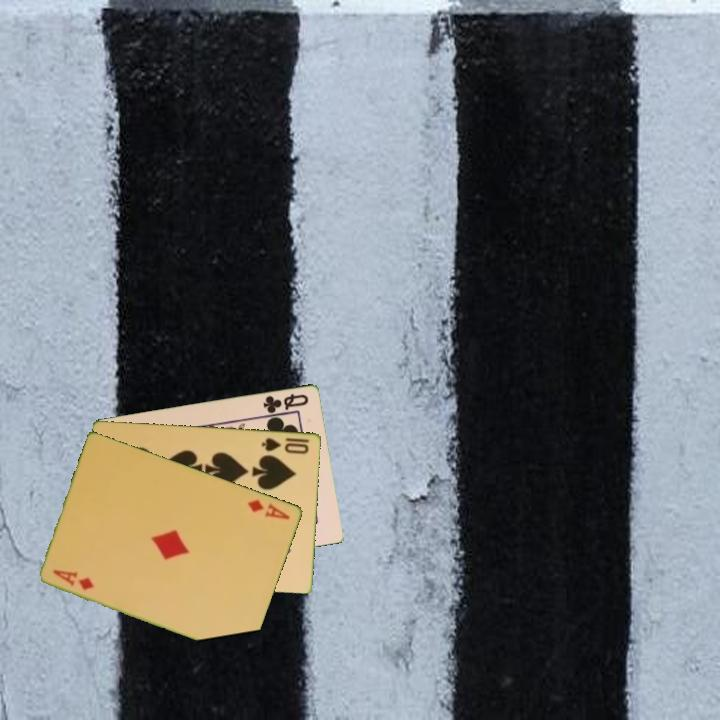10s: (259, 434, 312, 456)
Ad: (244, 496, 293, 522), (50, 566, 97, 593)
Qc: (260, 390, 312, 416)
